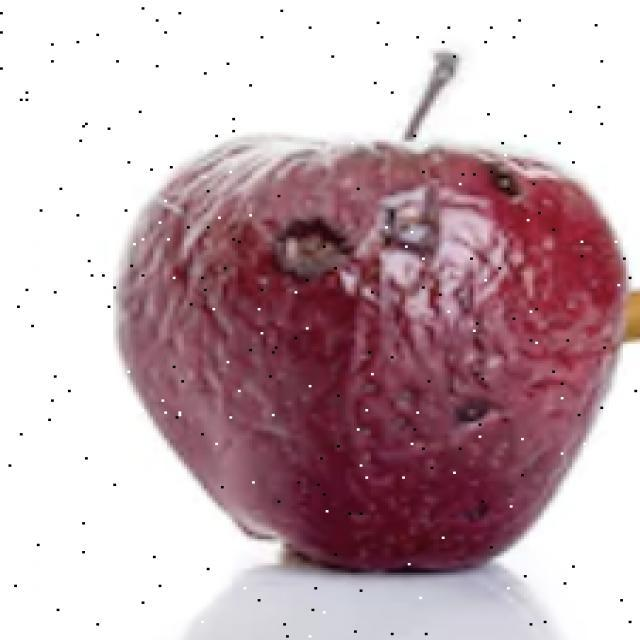Rotten: (115, 132, 613, 595)
